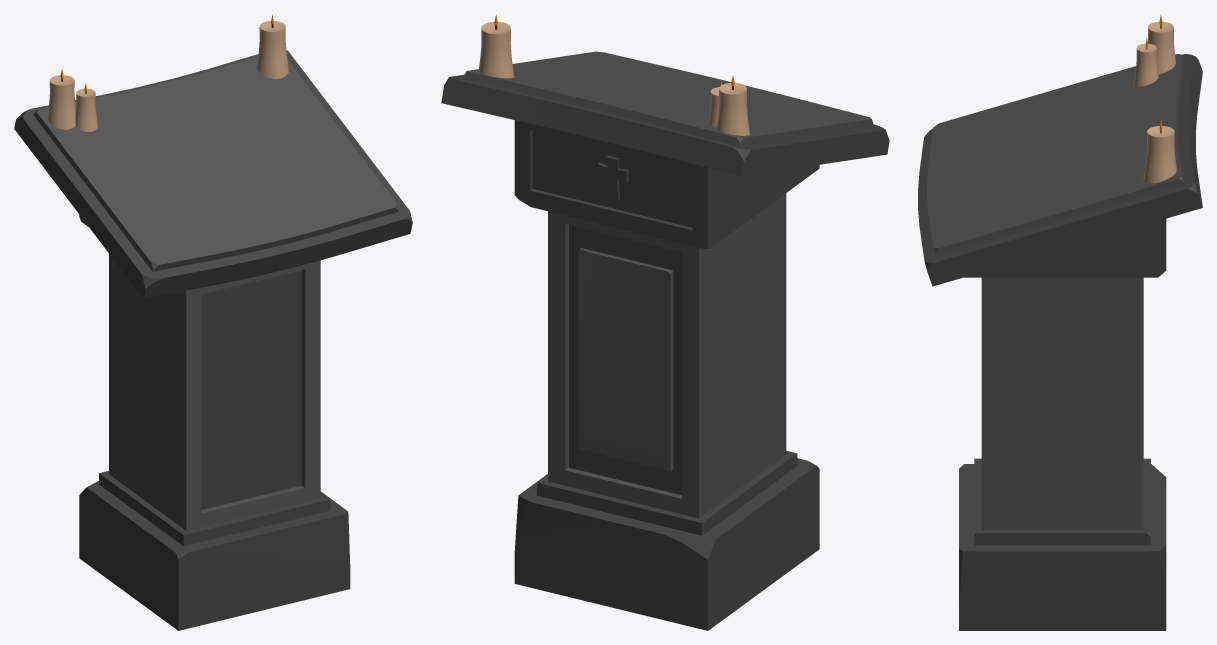
Rendered from Altar_02.glb.
The picture shows the model from 3 angles, left to right: view 1: azimuth 30°, elevation 25°; view 2: azimuth 150°, elevation 25°; view 3: azimuth 270°, elevation 25°; orthographic projection. The views are drawn at different scales.
Visible parts, largest first — view 1: Altar_02_LOD0; view 2: Altar_02_LOD0; view 3: Altar_02_LOD0.
Part boxes in pixels (x1,y1,x2,y2): Altar_02_LOD0: (14,14,412,630); Altar_02_LOD0: (441,14,889,630); Altar_02_LOD0: (918,14,1202,630).
Size of what is drawn, in the model's own units: 0.754 by 1.35 by 0.6673.
Materials: 2 (2 with a texture image).
